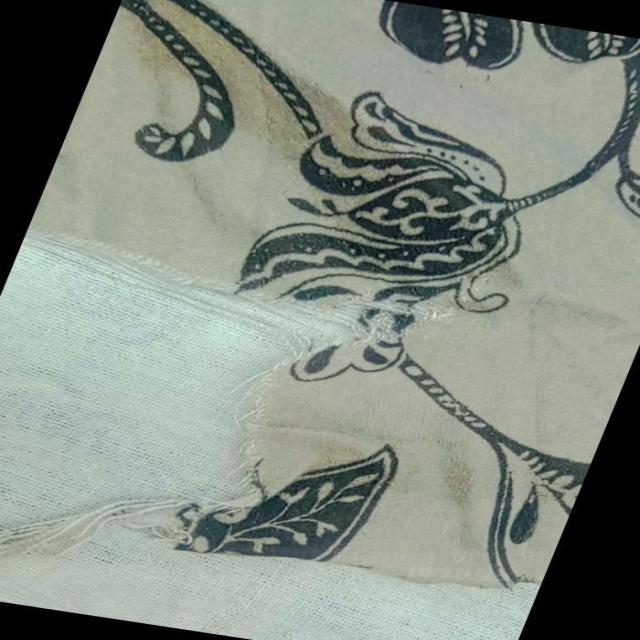cut: (0, 211, 454, 612)
